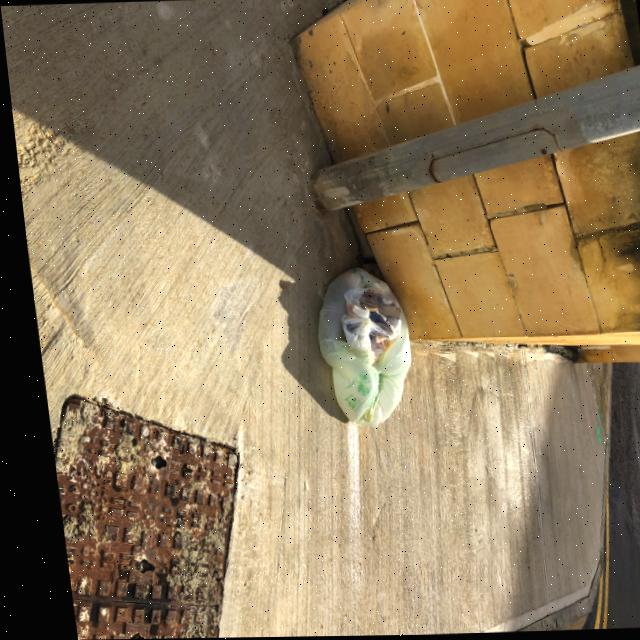Organic Waste -White Bag-: (295, 262, 414, 429)
